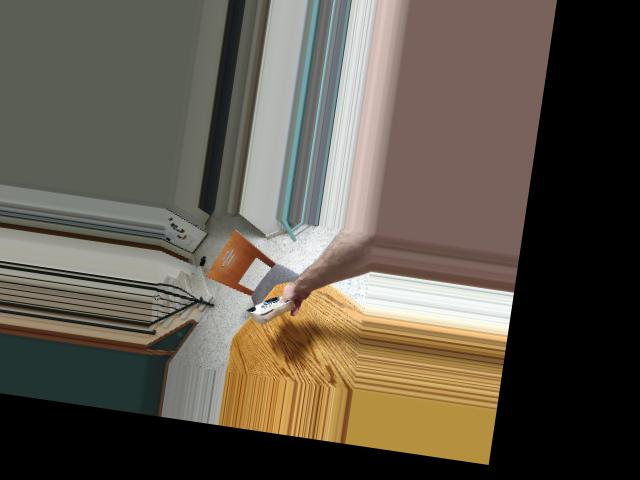cheese: (244, 288, 298, 329)
